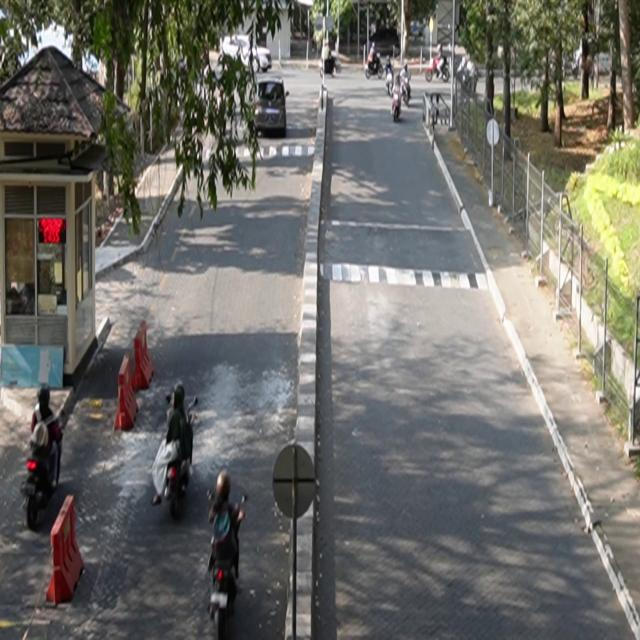car: (253, 78, 290, 138)
